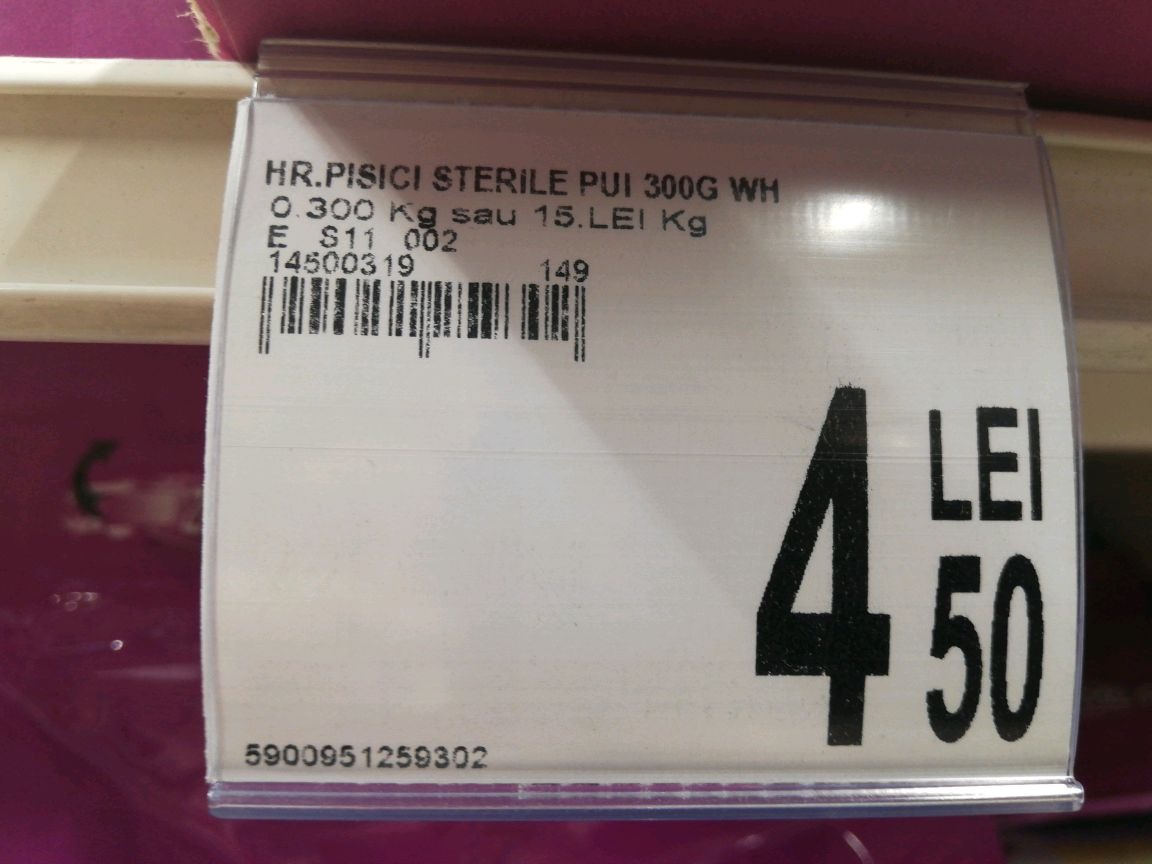price_bani: (914, 544, 1054, 753)
price_lei: (740, 379, 901, 753)
price_tag: (189, 89, 1100, 803)
product_id: (231, 738, 502, 774)
product_name: (249, 153, 800, 204)
